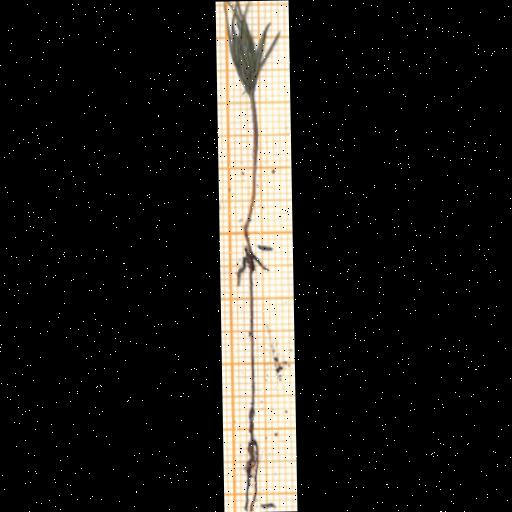flowerPinus: (225, 0, 281, 97)
rootPinus: (235, 247, 269, 511)
stemPinus: (242, 95, 259, 245)
